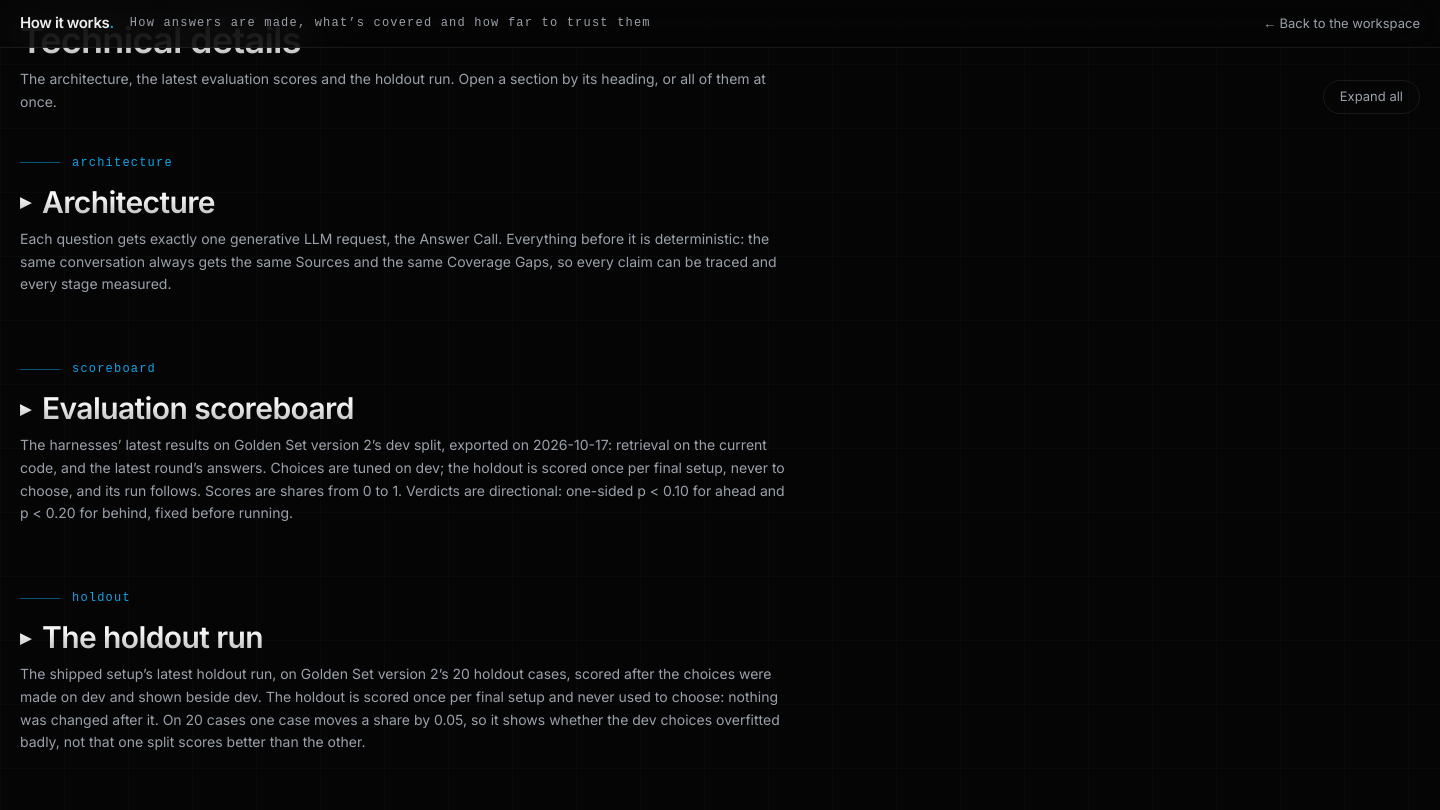
it: the "How it works" page › gates retrieval on Evidence Reached, with each Arm’s one-sided verdict
The width and height of the screenshot is (1440, 810).
(page scrolled)
Click the button "▸ Evaluation scoreboard": [187, 408] box [20,390,354,426]
(page scrolled)
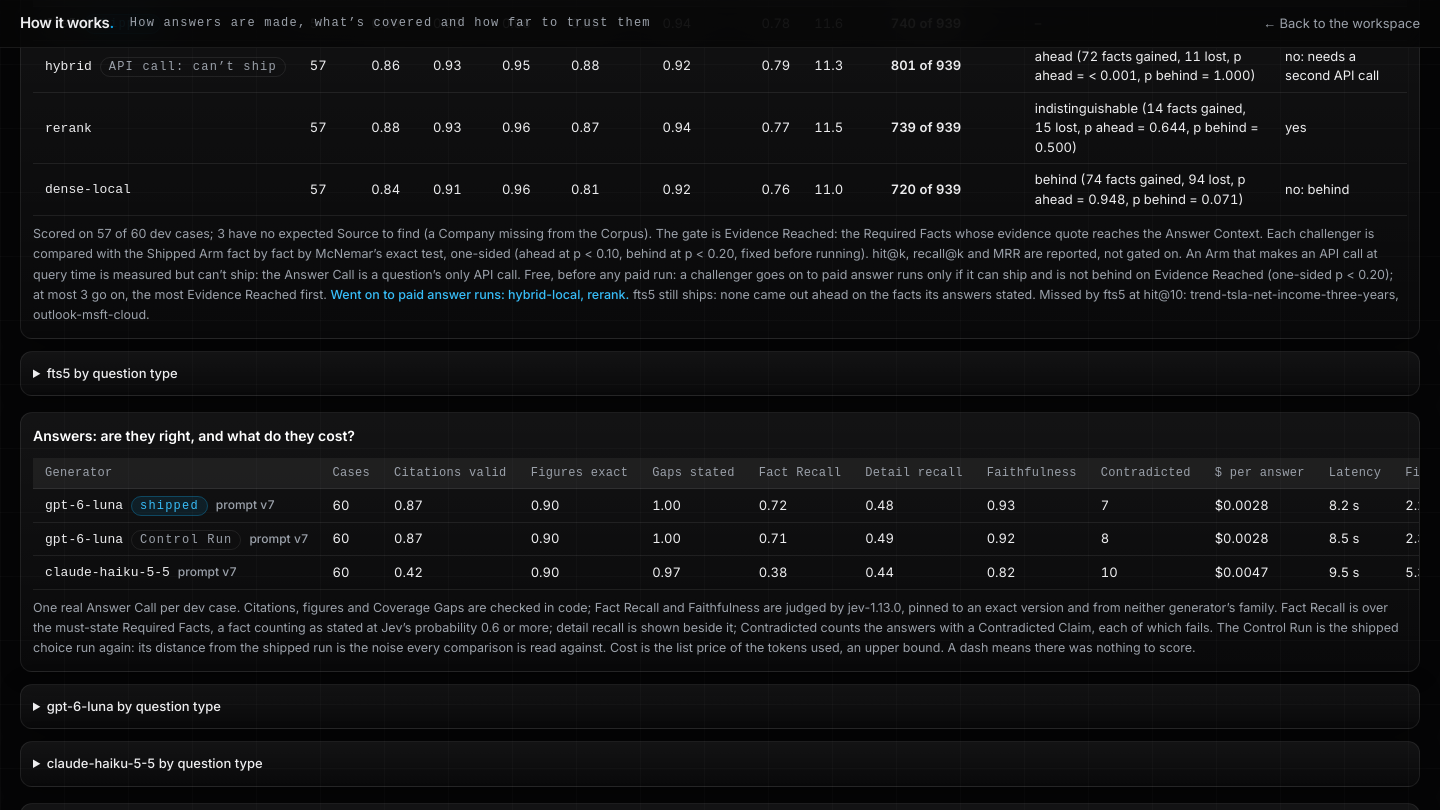
Now the row "dense-local" shows "behind (74 facts gained, 94 lost", box [1035,171,1246,207]
Now the row "dense-local" shows "p behind = 0.071", box [1035,171,1246,207]
Now the row "hybrid" shows "can’t ship", box [109,60,277,74]
